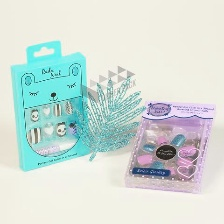plastic_box: (3, 34, 97, 177), (118, 92, 221, 199)
